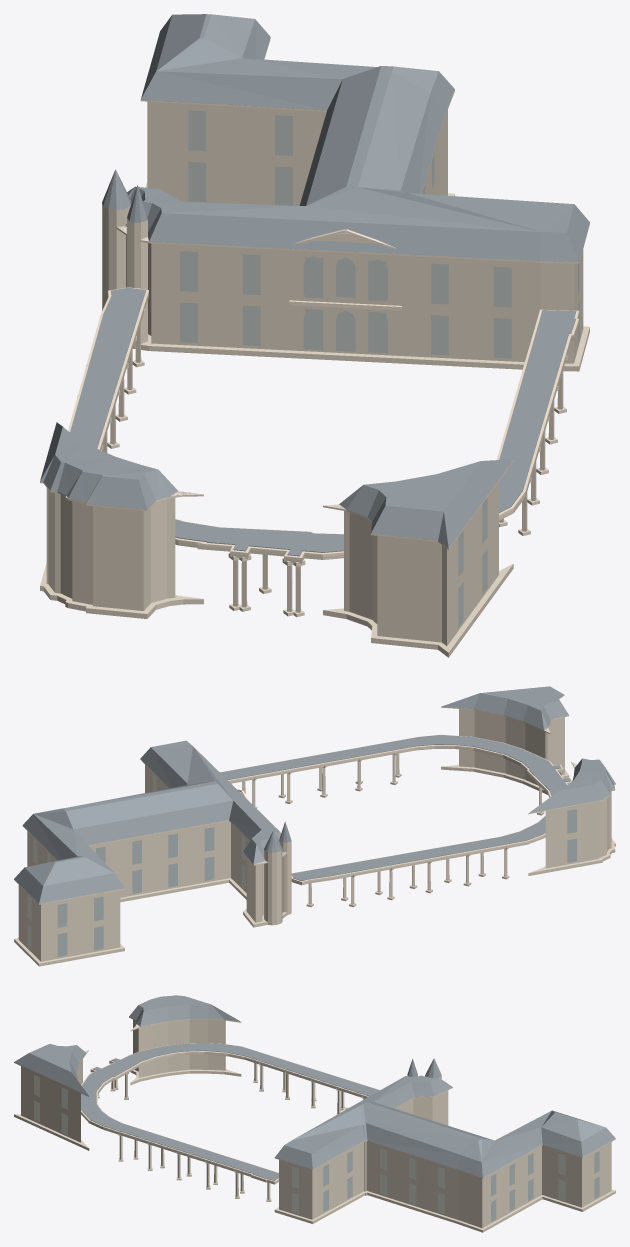
The picture shows the model from 3 angles, top to bottom: view 1: azimuth 30°, elevation 25°; view 2: azimuth 150°, elevation 25°; view 3: azimuth 270°, elevation 25°; orthographic projection. The views are drawn at different scales.
Parts seen in each view (by area): view 1: stone, roof, window, trim; view 2: stone, roof, window, trim; view 3: stone, roof, window, trim.
Boxes of the visible parts, box(x1,y1,x2,y2) form: stone: box(40, 101, 589, 657); roof: box(40, 14, 589, 556); window: box(180, 110, 579, 627); trim: box(40, 38, 589, 560); stone: box(14, 709, 615, 966); roof: box(14, 686, 615, 903); window: box(27, 774, 576, 956); trim: box(14, 695, 615, 904); stone: box(14, 1019, 615, 1232); roof: box(14, 995, 615, 1180); window: box(34, 1074, 599, 1221); trim: box(14, 1017, 615, 1182).
Size of the model in its own units: 88.79 by 19 by 130.
